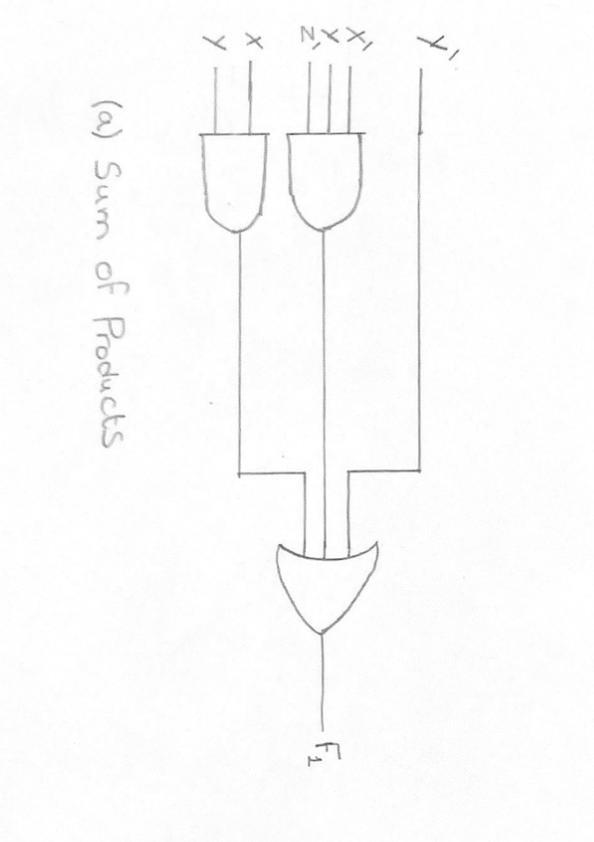AND: (280, 118, 381, 239), (183, 120, 273, 243)
OR: (263, 520, 409, 653)
